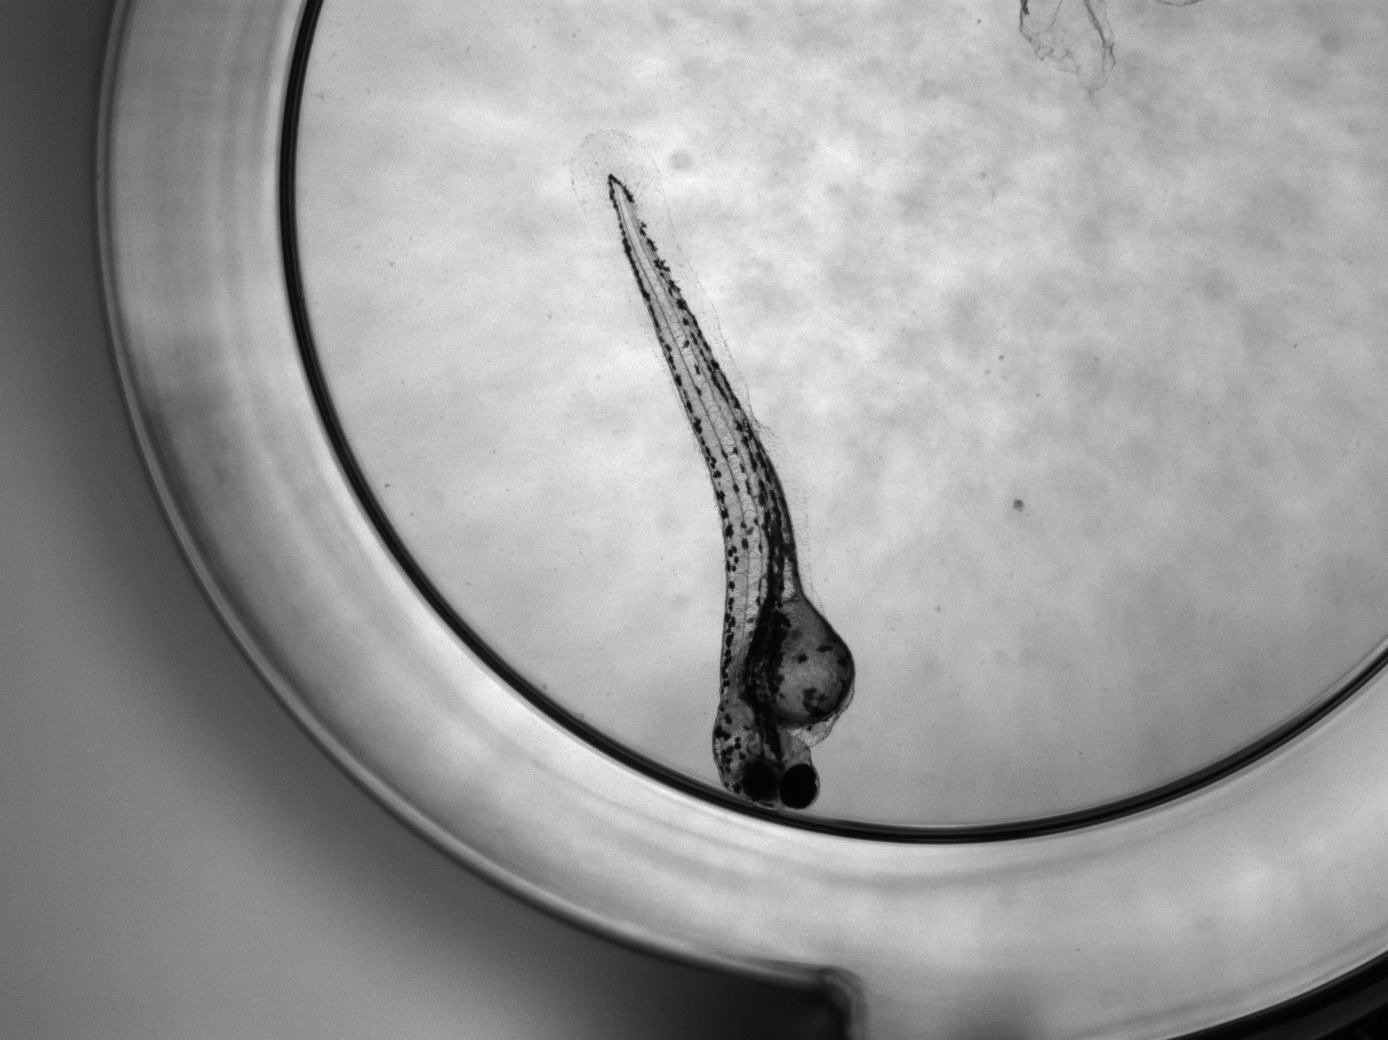debris: (1017, 1, 1118, 92)
embryo: (607, 174, 856, 813)
eye: (780, 764, 819, 809), (742, 763, 780, 802)
yolksac: (738, 594, 857, 730)
